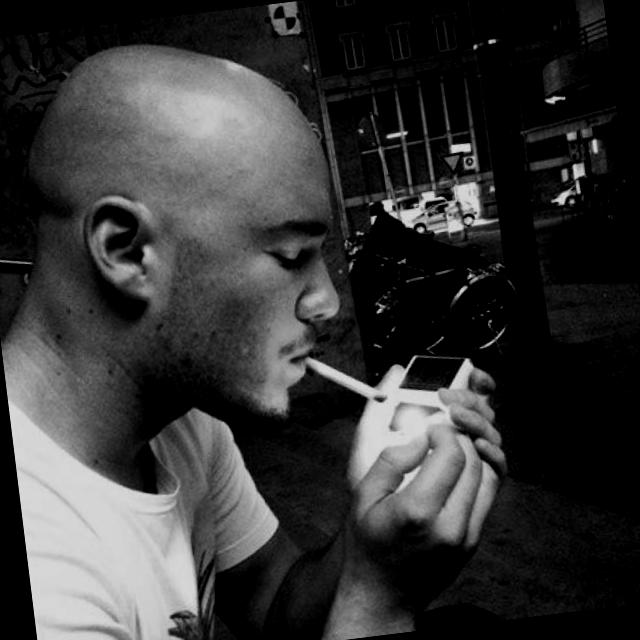cigarette: (289, 332, 398, 425)
